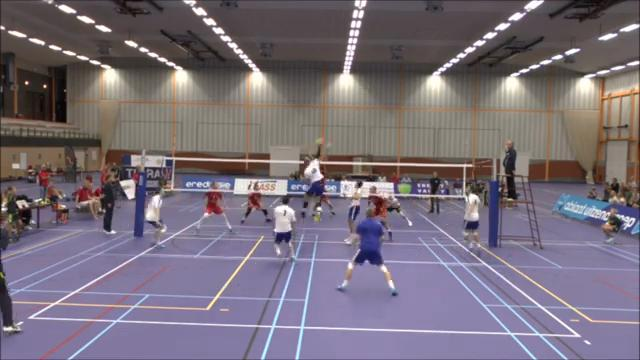attacco: (295, 136, 330, 221)
